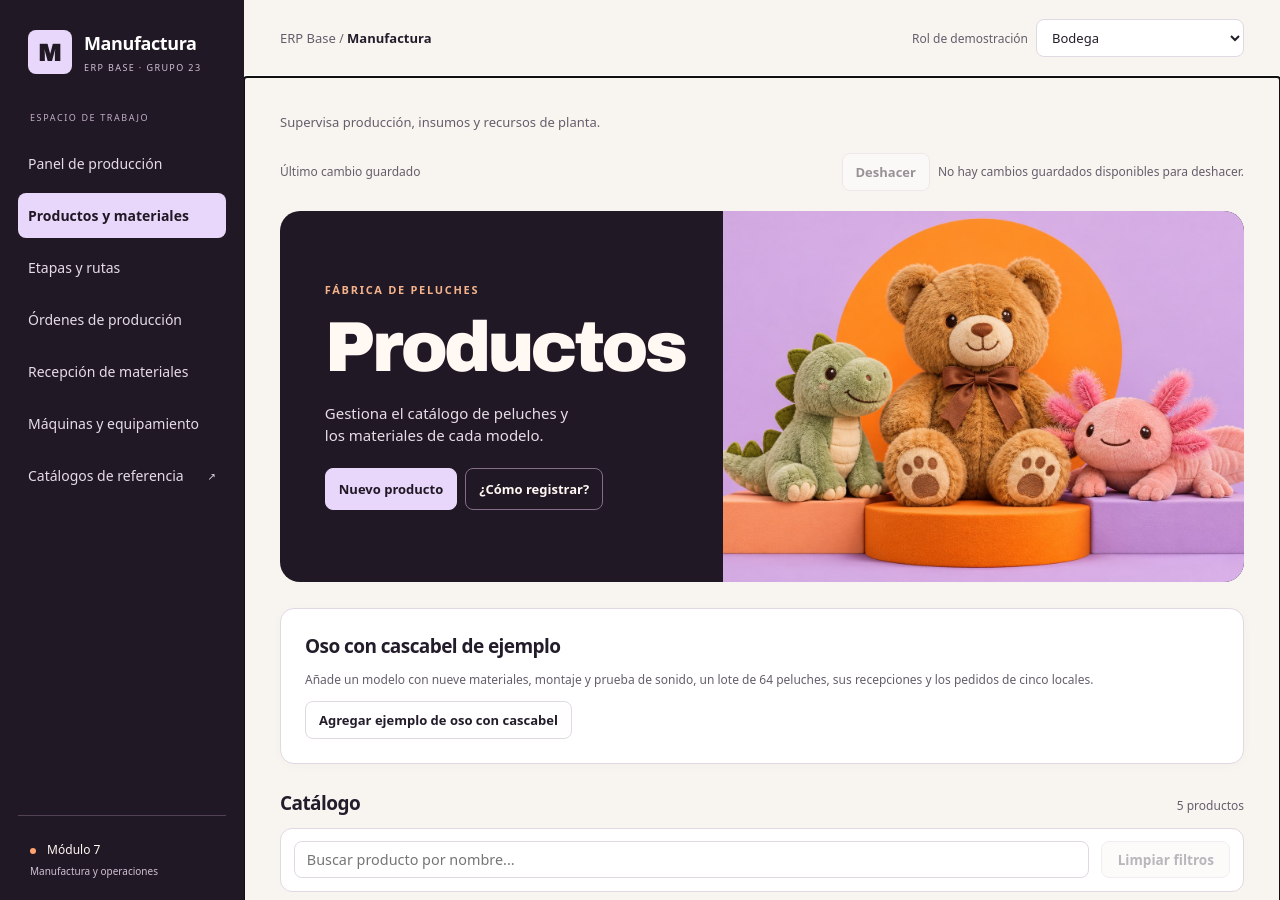
Test: Bodega puede registrar una recepción y consulta el historial sin editar ni eliminar
The image size is (1280, 900).
Select "Bodega" in the dropdown with id "rol-manufactura" at {"x": 1140, "y": 38}, box [1036,19,1244,57]
(page scrolled)
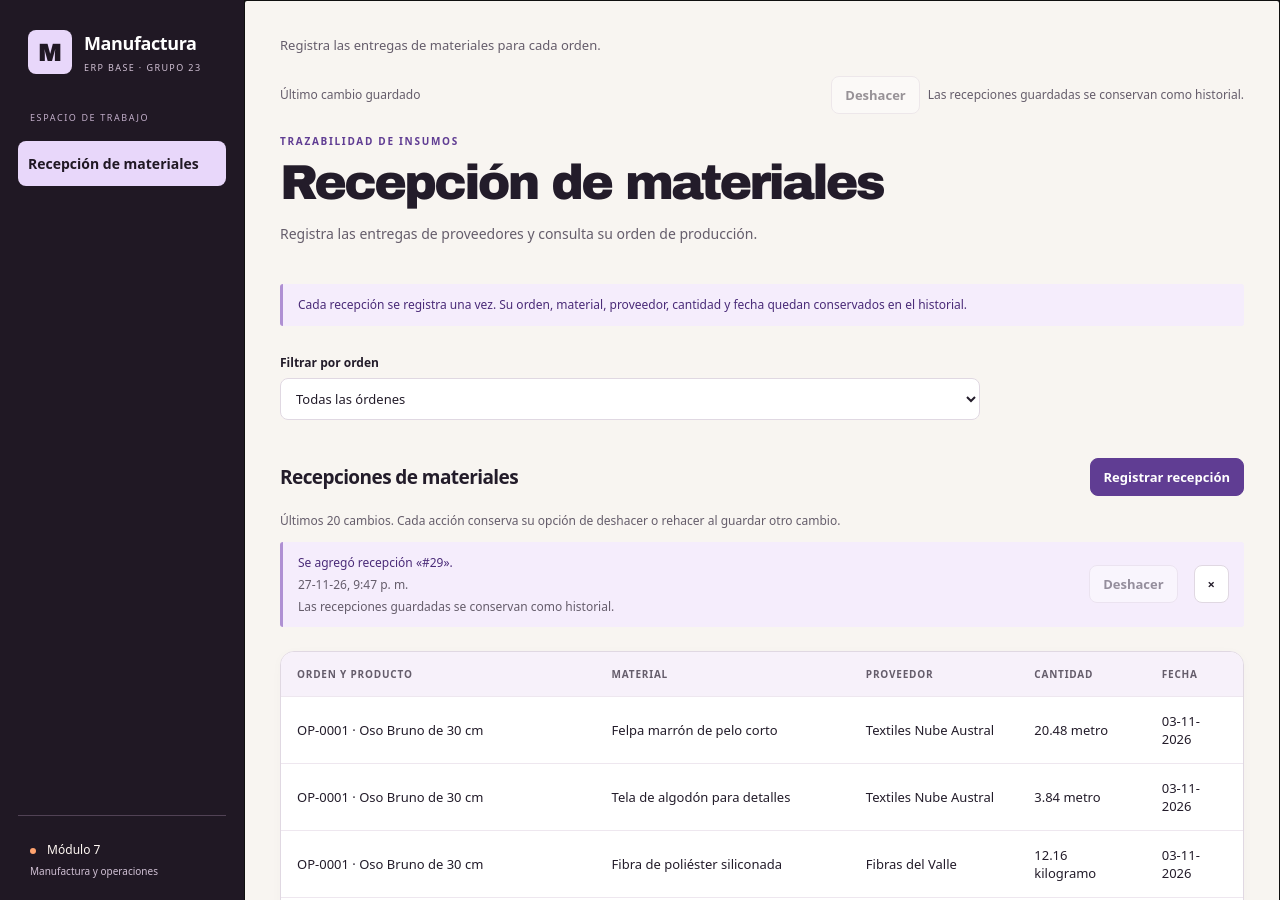
Check: the heading "Recepción de materiales" is shown, box [280,156,883,209]
Check: the text "OP-0001 · Oso Bruno" is shown, box [297,720,483,738]
